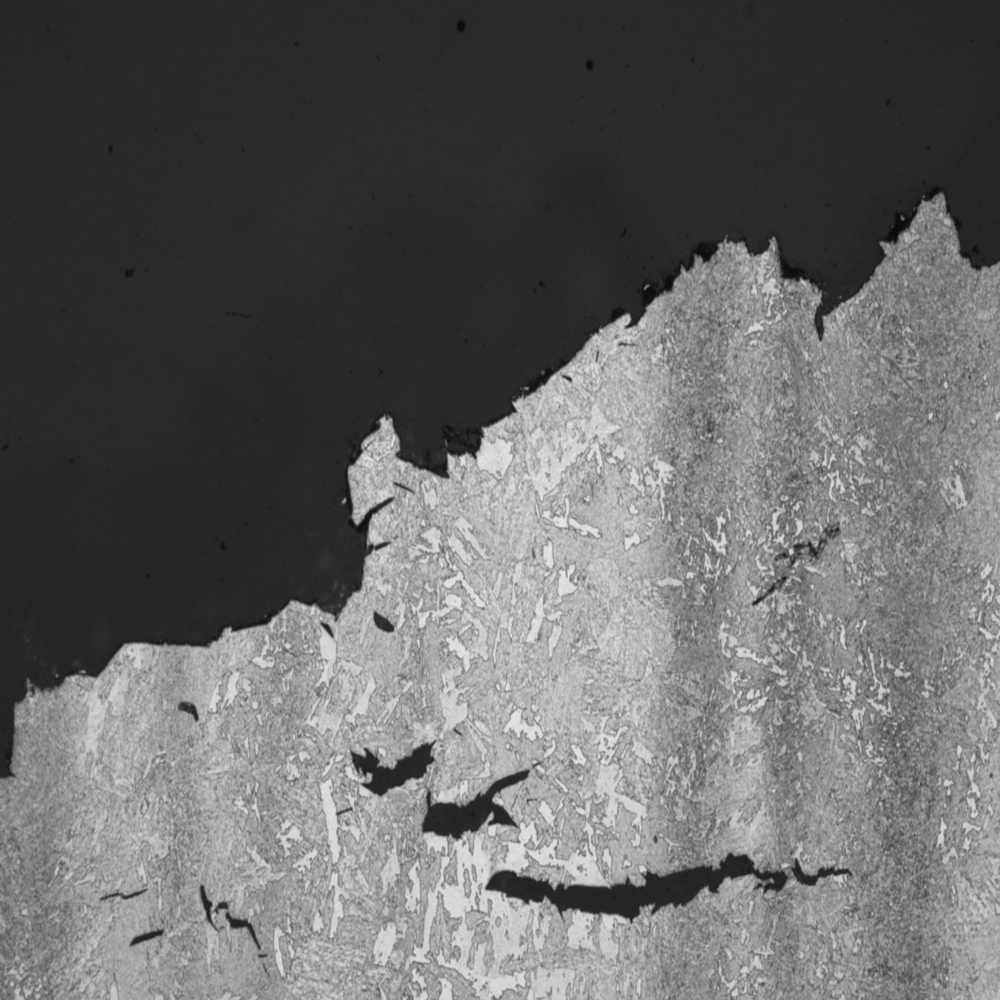crack: (458, 836, 868, 916), (307, 478, 423, 661), (406, 744, 549, 862), (178, 868, 290, 976), (316, 727, 464, 797)
